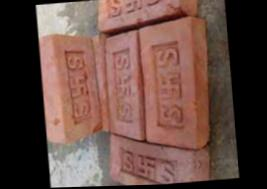brick: (136, 15, 201, 155), (48, 28, 103, 142), (104, 127, 192, 187), (100, 28, 143, 144), (94, 0, 184, 29)
